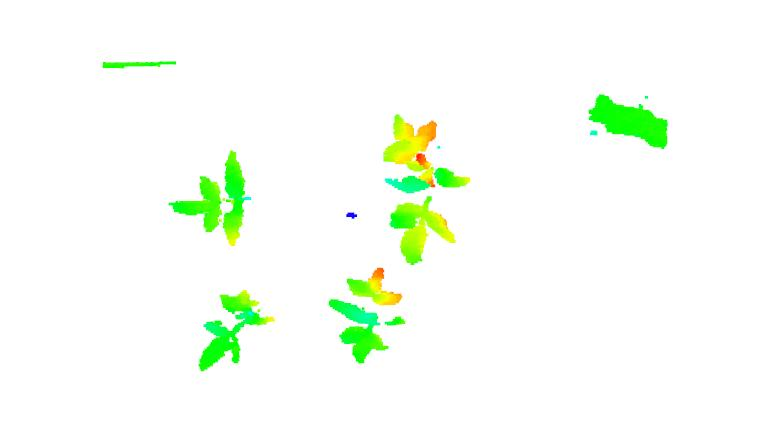mungbean: (384, 114, 474, 271), (165, 150, 254, 254), (325, 264, 412, 366), (193, 284, 277, 373)
